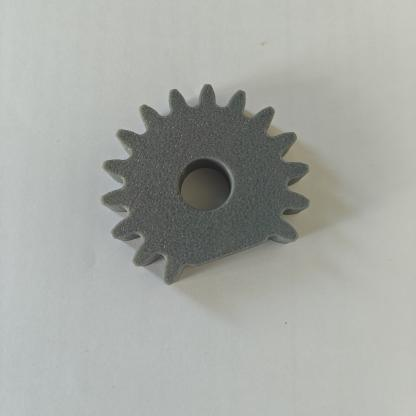defect: (152, 209, 300, 291)
gear: (92, 77, 320, 301)
